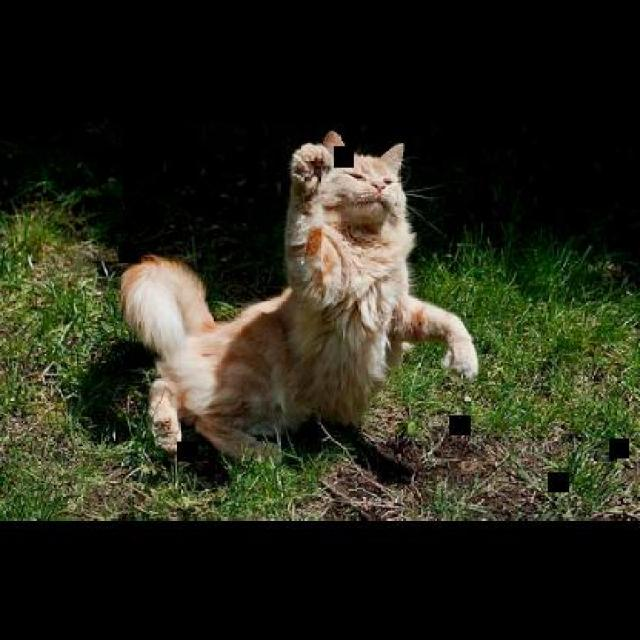unauthorized: (117, 131, 478, 478)
